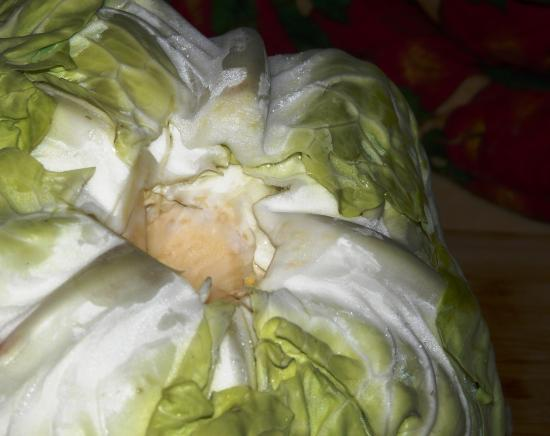cabbage: (0, 0, 510, 434)
